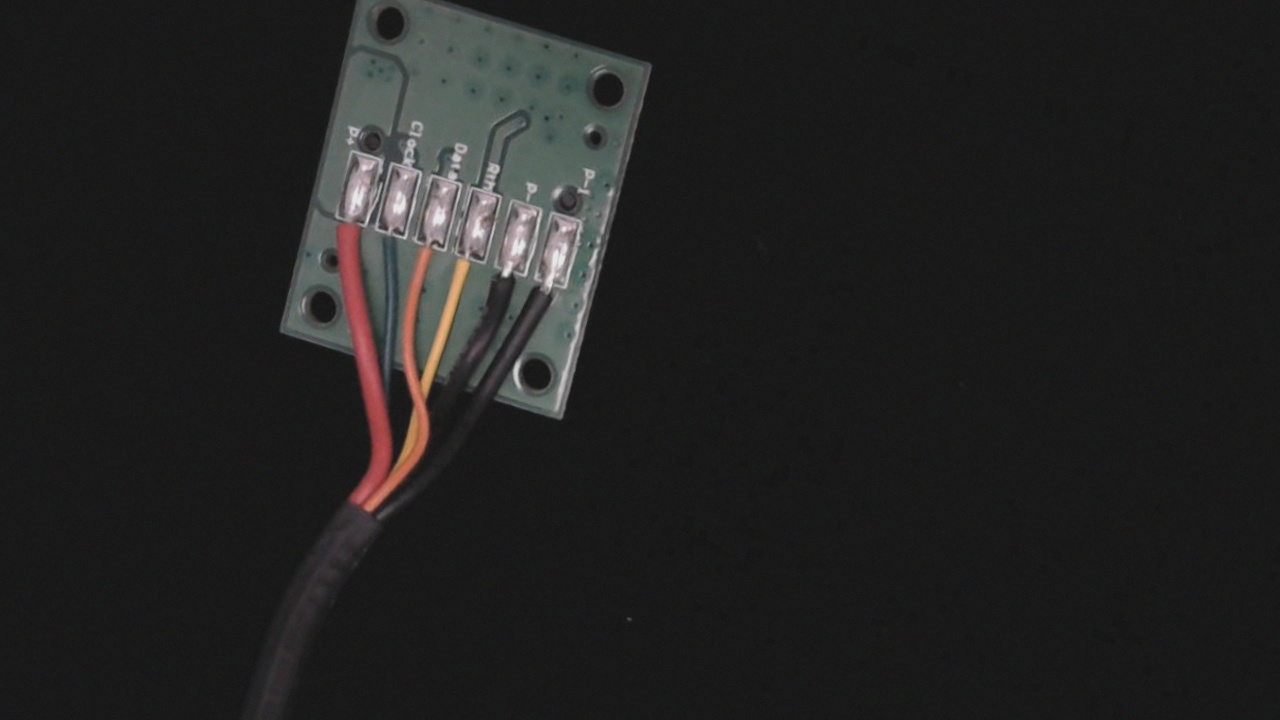Black: (475, 251, 530, 332)
Black1: (516, 263, 571, 341)
Green: (359, 211, 413, 283)
Orange: (401, 226, 449, 286)
Red: (319, 204, 373, 278)
Yellow: (432, 236, 491, 313)
